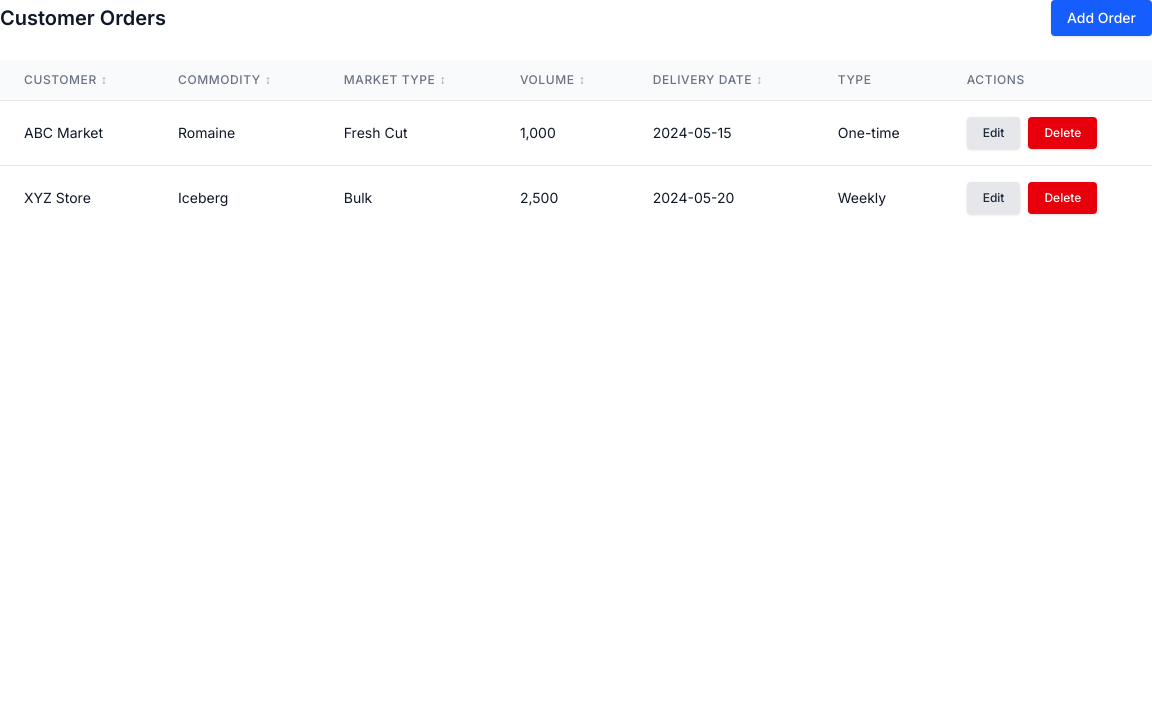
Test: OrdersFeature Component › edit order functionality › should populate form with existing order data
The width and height of the screenshot is (1152, 720).
Click the button "Edit" in the row of "ABC Market".
click(994, 133)  # box left=967, top=117, right=1020, bottom=149
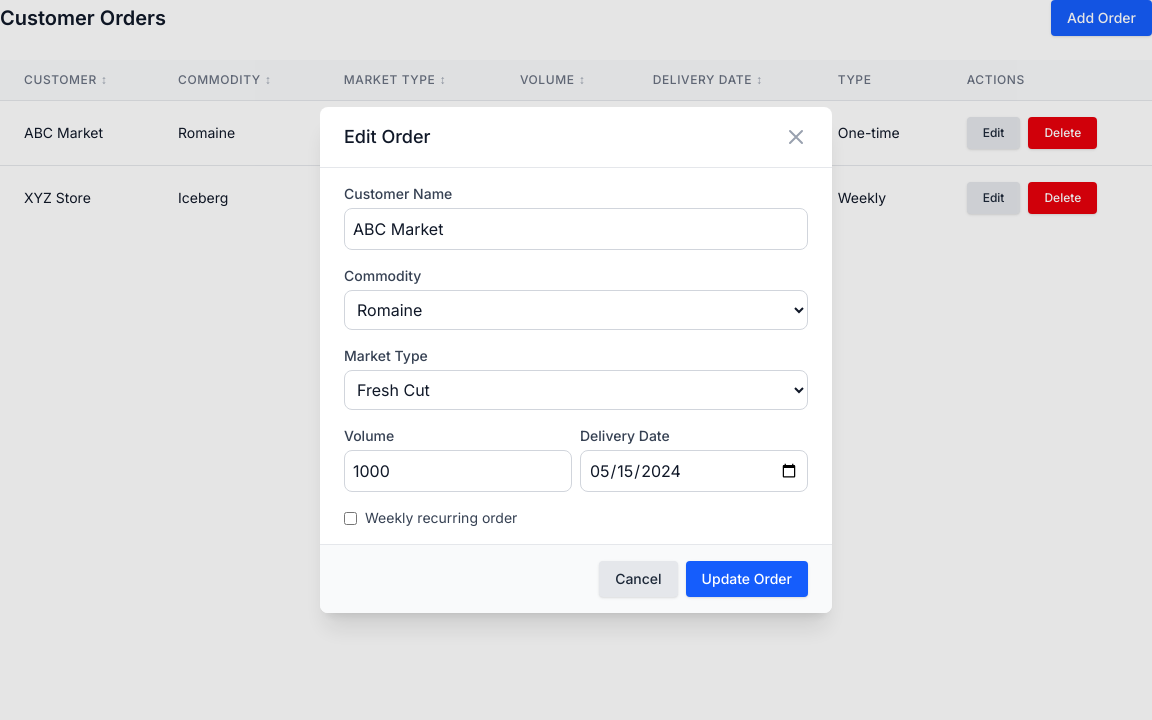
Expected: the field showing "ABC Market" is shown, left=344, top=208, right=808, bottom=250
Expected: the 1st dropdown showing "Romaine" is shown, left=344, top=290, right=808, bottom=330
Expected: the number field showing "1000" is shown, left=344, top=450, right=572, bottom=492
